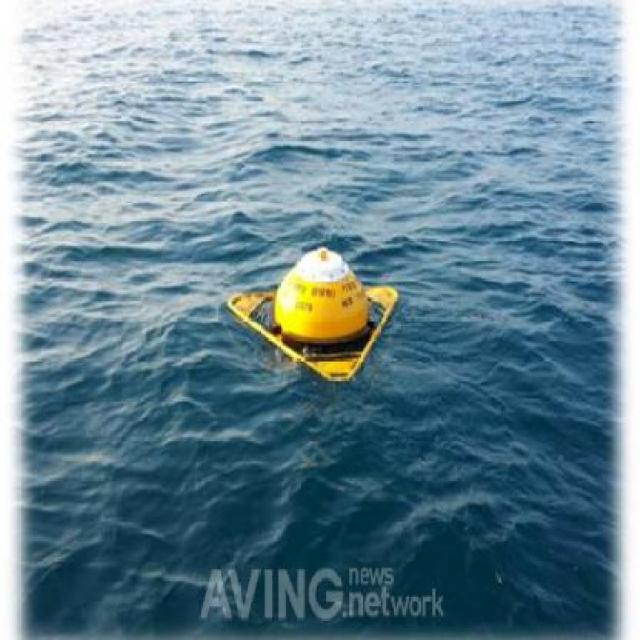buoy: (220, 241, 414, 396)
